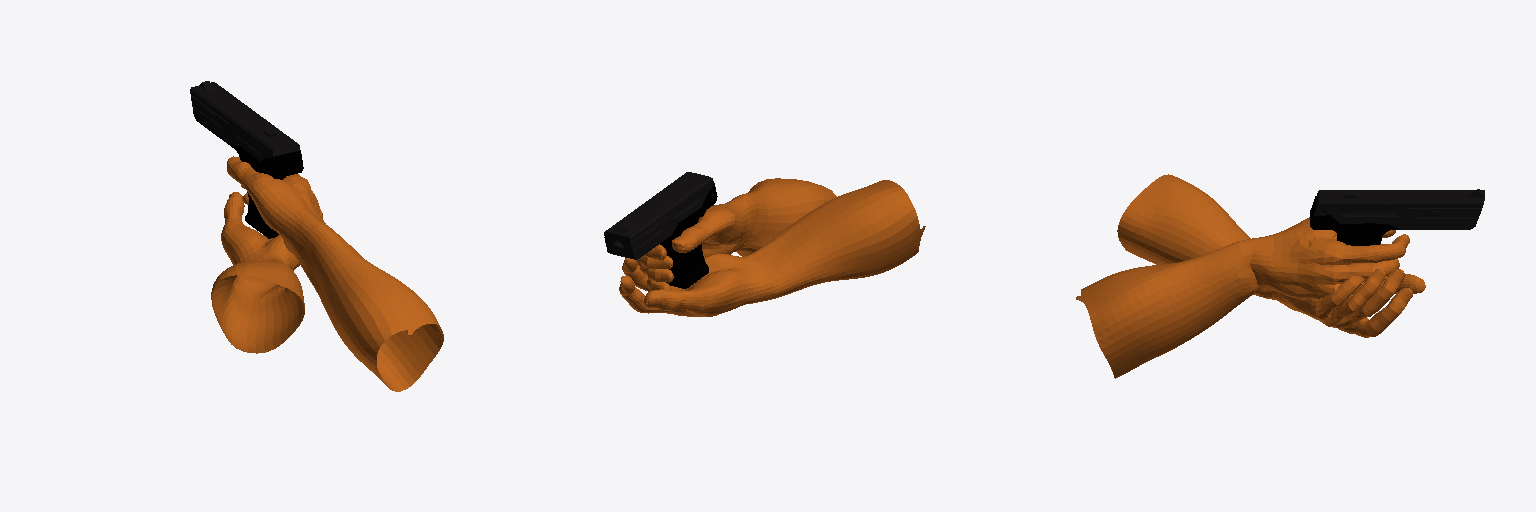
File: Pistol.obj
3 renders of one model, left to right at view 1: azimuth 30°, elevation 25°; view 2: azimuth 150°, elevation 25°; view 3: azimuth 270°, elevation 25°, orthographic.
Parts seen in each view (by area): view 1: FinalBaseMesh.002, FinalBaseMesh.001, Cube.002, Cube.007; view 2: FinalBaseMesh.001, FinalBaseMesh.002, Cube.002, Cube.001; view 3: FinalBaseMesh.002, FinalBaseMesh.001, Cube.002, Cube.007, Cube.001.
Part boxes in pixels (left/top/right/bottom): FinalBaseMesh.002: left=227, top=156, right=443, bottom=391; FinalBaseMesh.001: left=211, top=192, right=322, bottom=353; Cube.002: left=190, top=82, right=299, bottom=161; Cube.007: left=232, top=144, right=303, bottom=178; FinalBaseMesh.001: left=619, top=180, right=925, bottom=316; FinalBaseMesh.002: left=639, top=178, right=836, bottom=290; Cube.002: left=604, top=172, right=716, bottom=259; Cube.001: left=660, top=211, right=706, bottom=281; FinalBaseMesh.002: left=1076, top=217, right=1409, bottom=378; FinalBaseMesh.001: left=1117, top=174, right=1425, bottom=337; Cube.002: left=1310, top=190, right=1484, bottom=229; Cube.007: left=1310, top=196, right=1399, bottom=229; Cube.001: left=1337, top=233, right=1382, bottom=245.
Bounding box in the file's own units: 4.17 × 3.6 × 7.46.